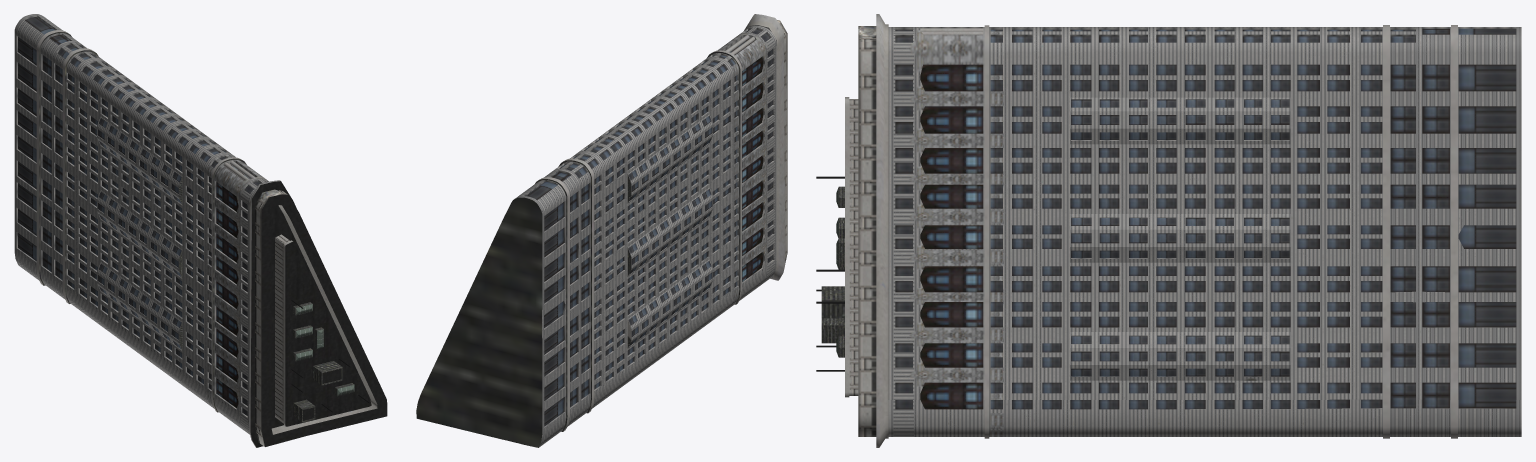
The model's file is 13943_Flatiron_Building_v1_l1.obj.
3 views of the same model, side by side, from view 1: azimuth 30°, elevation 25°; view 2: azimuth 150°, elevation 25°; view 3: azimuth 270°, elevation 25° (orthographic). The views are drawn at different scales.
Parts seen in each view (by area): view 1: Flatiron_Building; view 2: Flatiron_Building; view 3: Flatiron_Building.
Part boxes in pixels (<box>): Flatiron_Building: <box>14,14,387,447</box>; Flatiron_Building: <box>416,14,787,447</box>; Flatiron_Building: <box>816,14,1521,447</box>.
Size of the model in its own units: 2579 by 4796 by 8700.
Materials: 1 (1 with a texture image).
